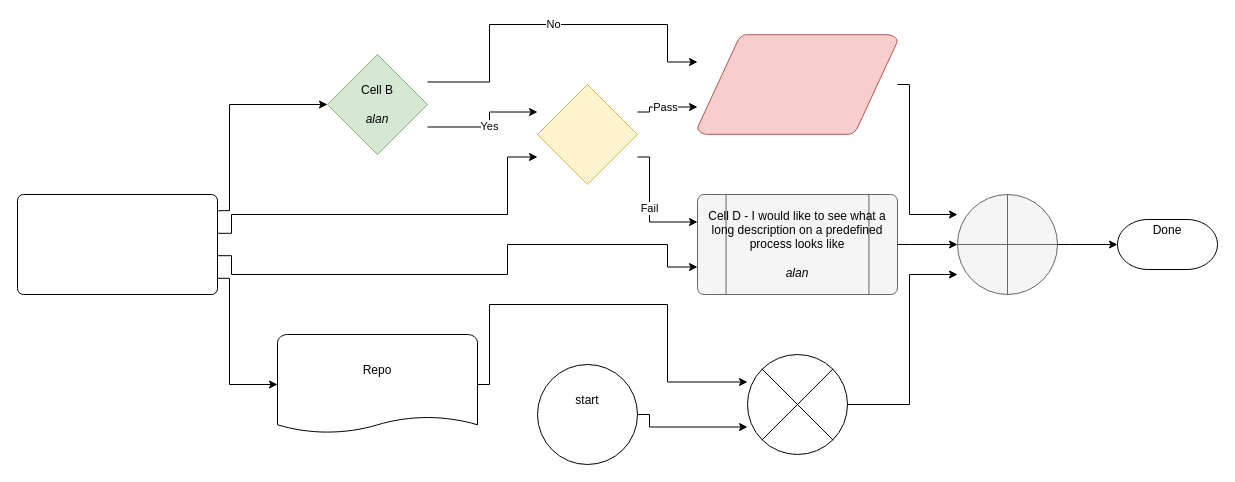
Some shapes in this 1235 by 482 pixel diagram are drawn without their labels. The shapes that lost their labels are listed below. From the top down, each one's centre as x and y in pixels, then its label:
point (797, 84): Cell E
point (587, 134): Cell C
point (117, 244): This is a long task description like we would expect nate
